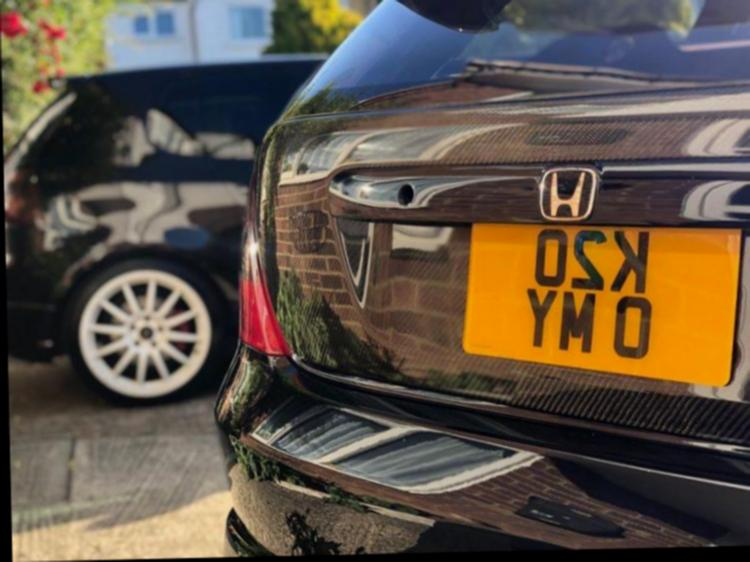License_Plate: (454, 219, 750, 399)
